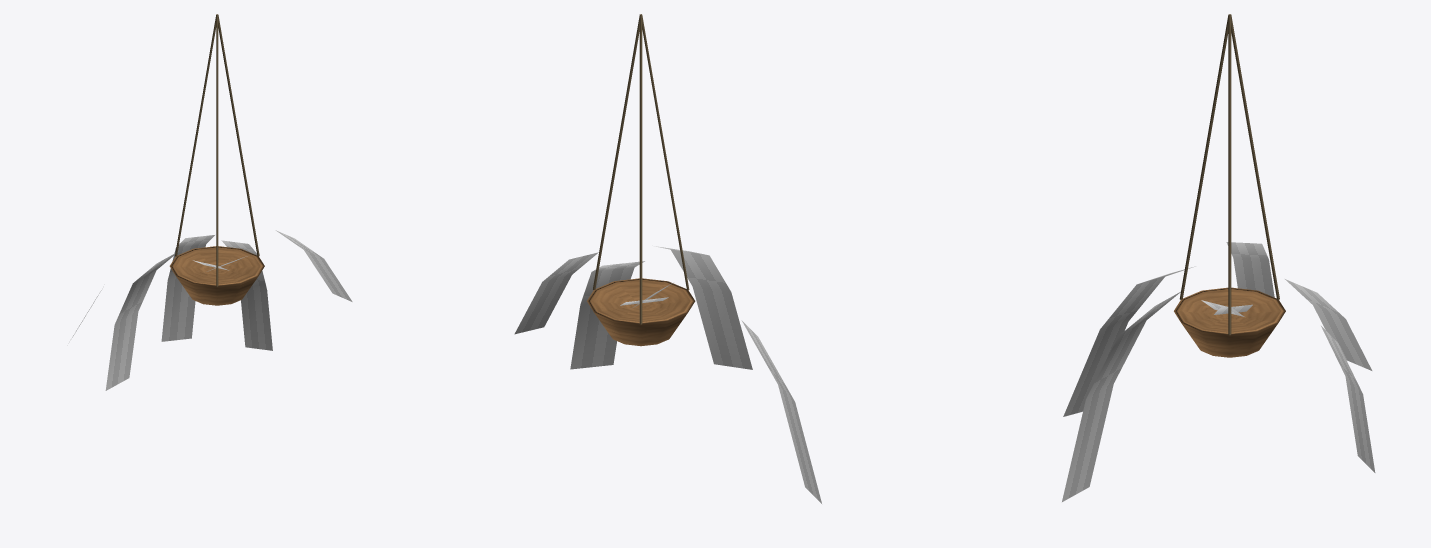
File: hangingFern.glb
The picture shows the model from 3 angles, left to right: view 1: azimuth 30°, elevation 25°; view 2: azimuth 150°, elevation 25°; view 3: azimuth 270°, elevation 25°; orthographic projection. The views are drawn at different scales.
Visible parts, largest first — view 1: dyn_color_tint, anim_swing_0; view 2: dyn_color_tint, anim_swing_0; view 3: dyn_color_tint, anim_swing_0.
Part boxes in pixels (bbox=[...]): dyn_color_tint: bbox=[72, 230, 352, 390]; anim_swing_0: bbox=[169, 14, 264, 305]; dyn_color_tint: bbox=[514, 245, 821, 503]; anim_swing_0: bbox=[587, 14, 695, 346]; dyn_color_tint: bbox=[1062, 242, 1375, 501]; anim_swing_0: bbox=[1174, 14, 1285, 357].
Size of the model in its own units: 1.82 by 2.29 by 1.86.
Materials: 3 (2 with a texture image).
